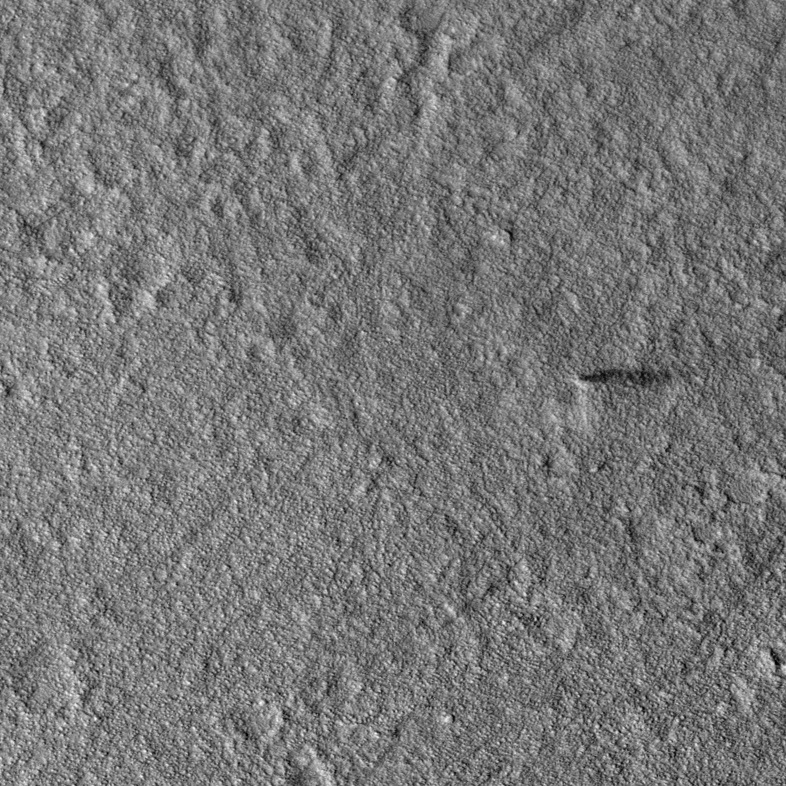dust_devil: (571, 366, 673, 395)
